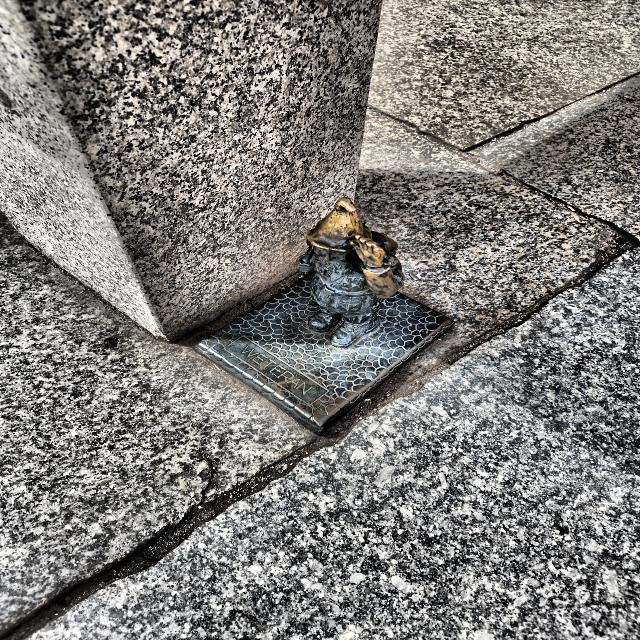Weteran: (298, 198, 403, 348)
